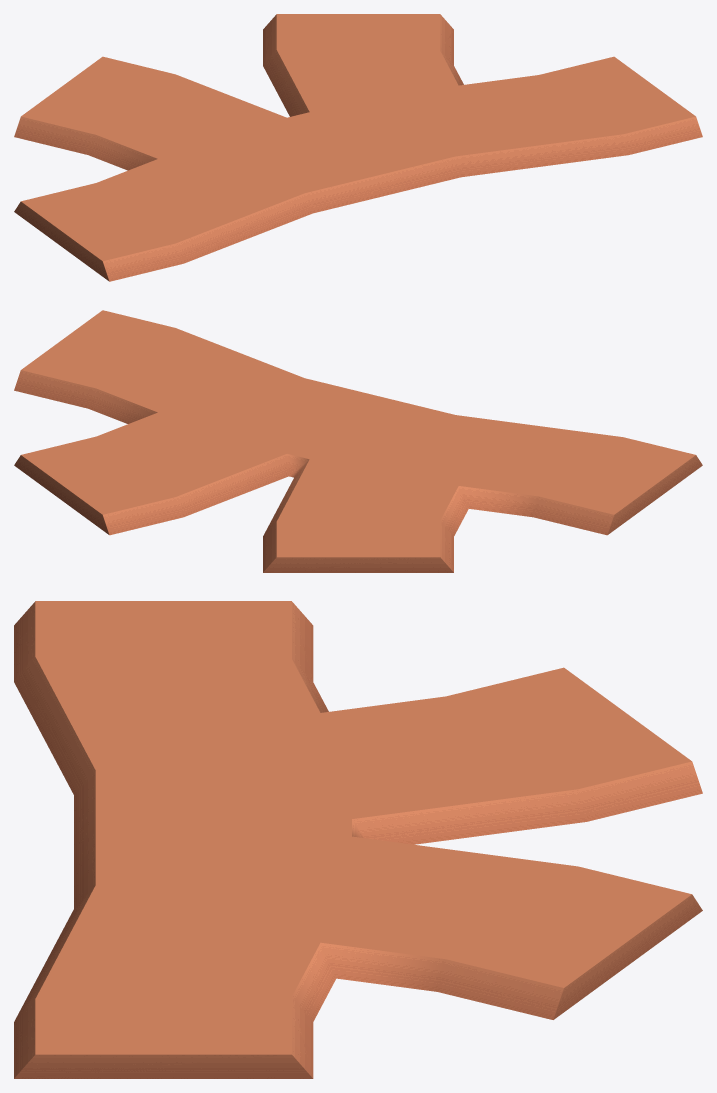
The model's file is path-intersectionH.glb.
3 renders of one model, top to bottom at view 1: azimuth 30°, elevation 25°; view 2: azimuth 150°, elevation 25°; view 3: azimuth 270°, elevation 25°, orthographic. The views are drawn at different scales.
Visible parts, largest first — view 1: path-intersectionH; view 2: path-intersectionH; view 3: path-intersectionH.
Boxes of the visible parts, left/top/right/bottom form: path-intersectionH: left=14, top=14, right=702, bottom=281; path-intersectionH: left=14, top=310, right=702, bottom=572; path-intersectionH: left=14, top=601, right=702, bottom=1078.
Size of the model in its own units: 1 by 0.025 by 0.6423.
Materials: 1 (1 with a texture image).
